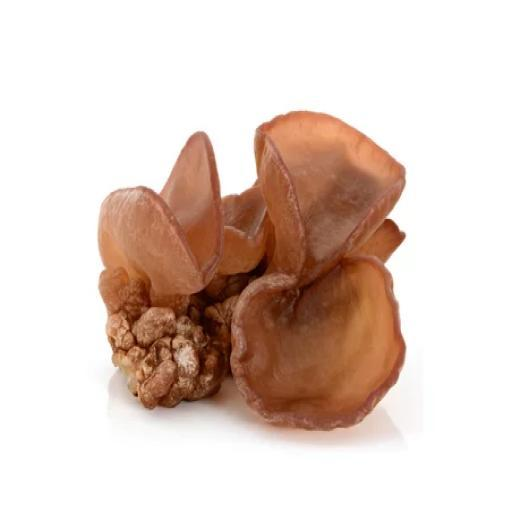mushroom: (91, 107, 416, 431)
